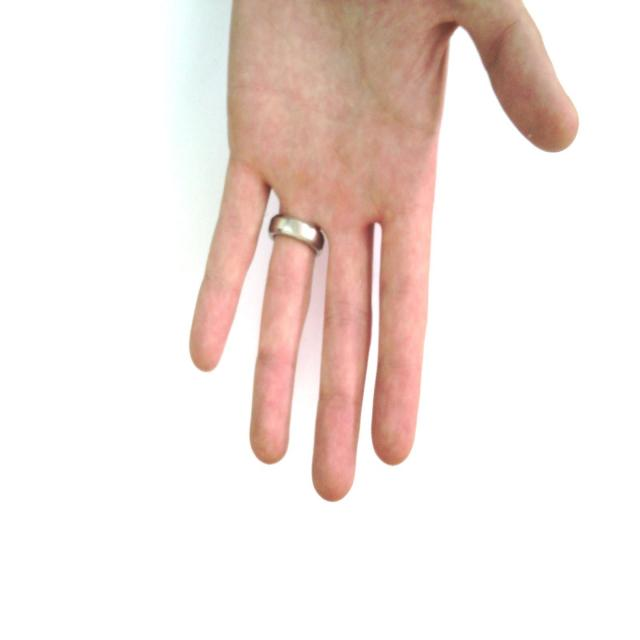others: (160, 1, 614, 506)
